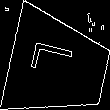L_E: (32, 46, 84, 87)
